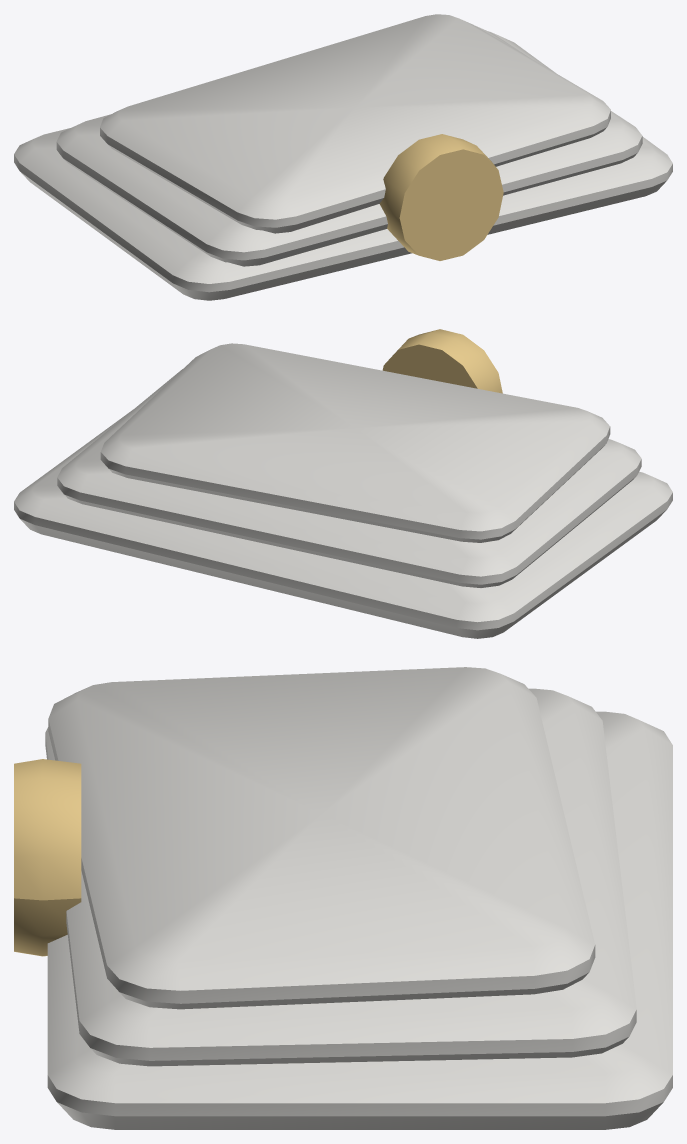
Rendered from restaurant-kitchen-and-dining-napkin-fold-2903c56a__16534.glb.
3 renders of one model, top to bottom at view 1: azimuth 30°, elevation 25°; view 2: azimuth 150°, elevation 25°; view 3: azimuth 270°, elevation 25°, orthographic. The views are drawn at different scales.
Parts seen in each view (by area): view 1: napkin-fold; view 2: napkin-fold; view 3: napkin-fold.
Boxes of the visible parts, bbox=[...] form: napkin-fold: bbox=[14, 14, 672, 300]; napkin-fold: bbox=[14, 329, 672, 638]; napkin-fold: bbox=[14, 667, 672, 1129].
Bounding box in the file's own units: 0.19 × 0.0409 × 0.137.
